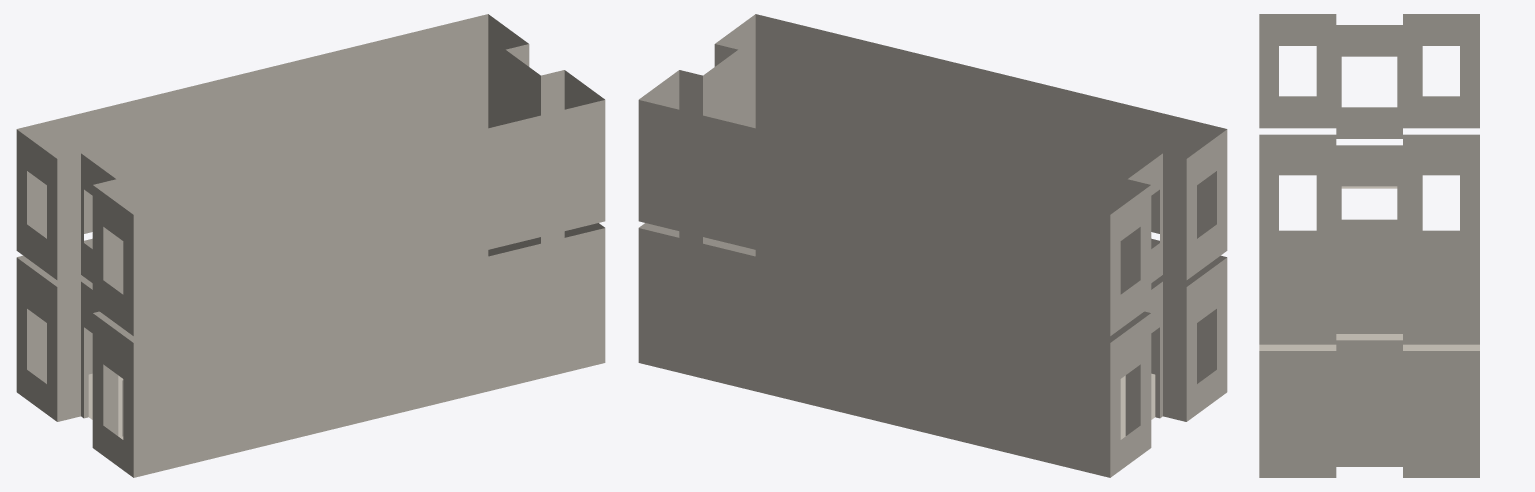
Rendered from Bld_R_low_L3_C.fbx.
3 renders of one model, left to right at view 1: azimuth 30°, elevation 25°; view 2: azimuth 150°, elevation 25°; view 3: azimuth 270°, elevation 25°, orthographic. The views are drawn at different scales.
Visible parts, largest first — view 1: Bld_R_low_L3_C_LOD0; view 2: Bld_R_low_L3_C_LOD0; view 3: Bld_R_low_L3_C_LOD0.
Part boxes in pixels (box(x1,y1,x2,y2)): Bld_R_low_L3_C_LOD0: box(16, 14, 605, 477); Bld_R_low_L3_C_LOD0: box(638, 14, 1227, 477); Bld_R_low_L3_C_LOD0: box(1259, 14, 1479, 477).
Size of what is drawn, in the model's own units: 1400 by 896 by 707.
1 material, 1 textured.
